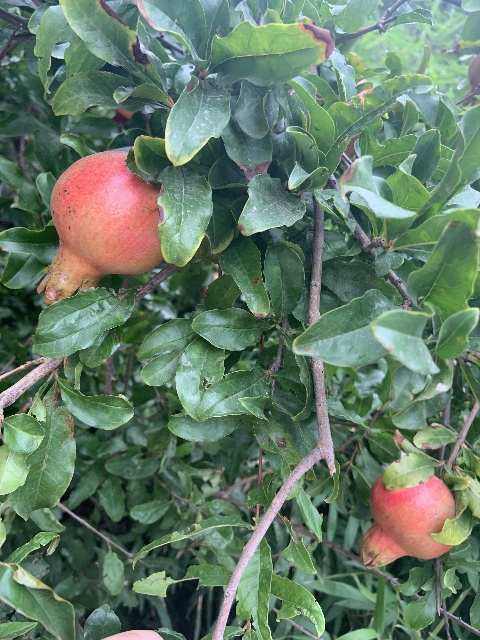ripe: (36, 150, 164, 305), (359, 474, 456, 567), (85, 629, 175, 640)
